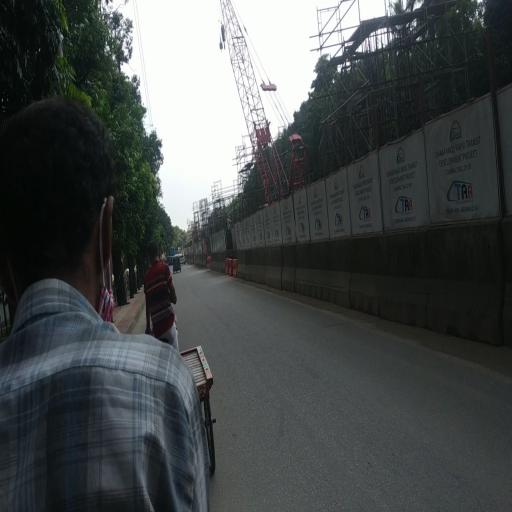three wheelers (CNG): (172, 254, 183, 273)
